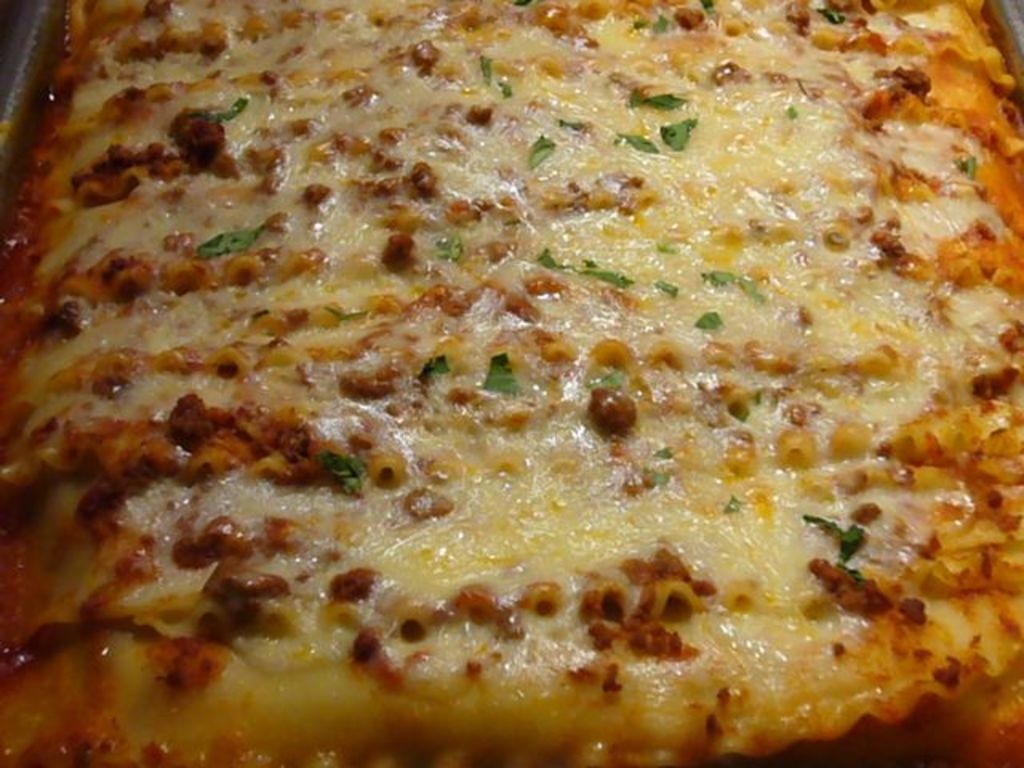Pizza: (0, 0, 1024, 763)
